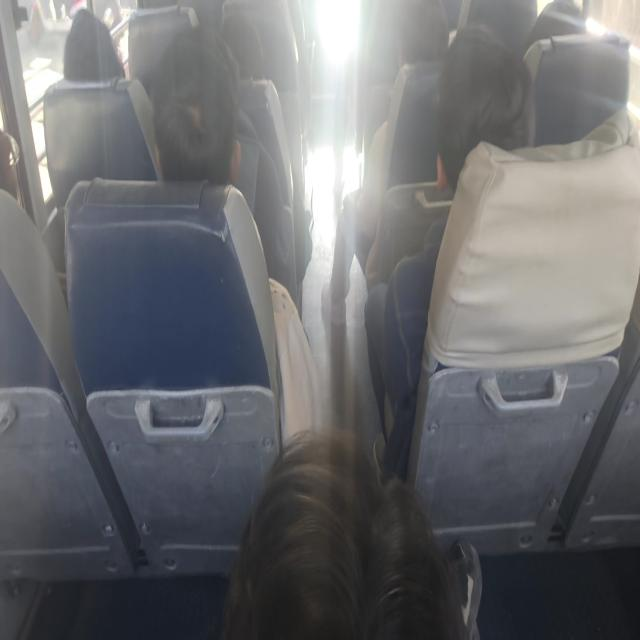person: (226, 442, 472, 632), (434, 31, 532, 206), (154, 44, 248, 188), (384, 0, 448, 89), (58, 0, 120, 84), (522, 0, 602, 52), (213, 5, 267, 77), (0, 106, 27, 218)
